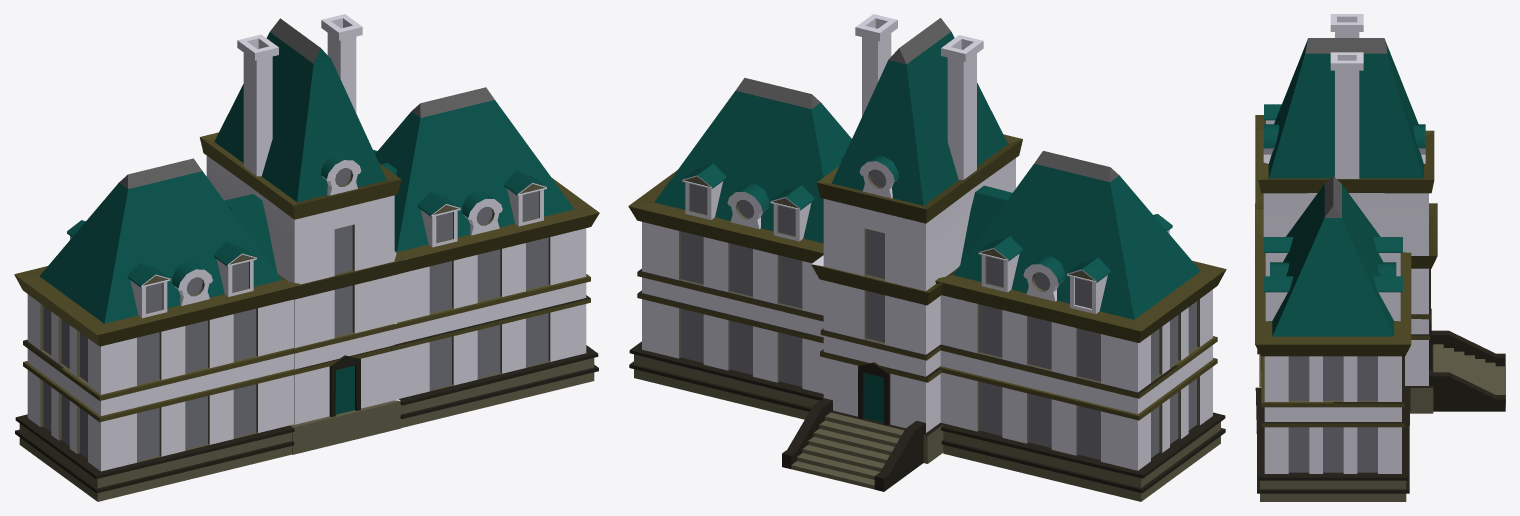
File: Palace_Russian.obj
3 renders of one model, left to right at view 1: azimuth 30°, elevation 25°; view 2: azimuth 150°, elevation 25°; view 3: azimuth 270°, elevation 25°, orthographic. The views are drawn at different scales.
Parts seen in each view (by area): view 1: SM_Palace; view 2: SM_Palace; view 3: SM_Palace.
Boxes of the visible parts, <box> form: SM_Palace: <box>14,14,599,501</box>; SM_Palace: <box>628,14,1226,501</box>; SM_Palace: <box>1255,14,1505,501</box>.
Bounding box in the file's own units: 52.39 × 37.33 × 24.2.
